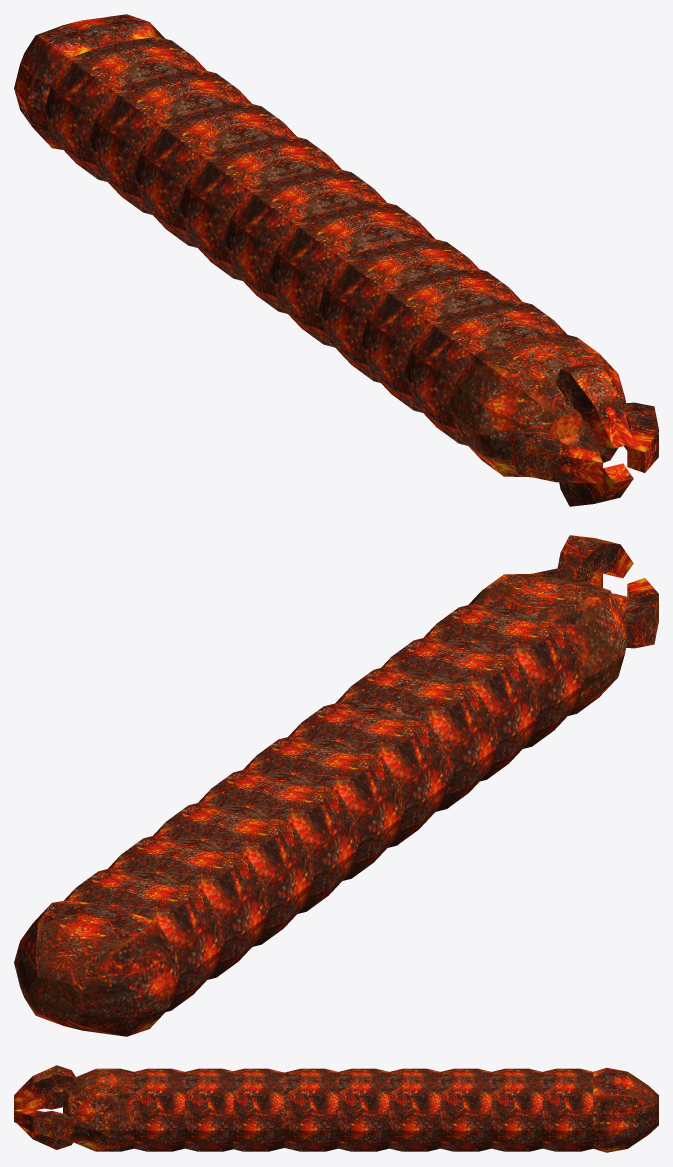
Rendered from gorger.obj.
3 renders of one model, top to bottom at view 1: azimuth 30°, elevation 25°; view 2: azimuth 150°, elevation 25°; view 3: azimuth 270°, elevation 25°, orthographic. The views are drawn at different scales.
Visible parts, largest first — view 1: Head, Body03, Body06, Body05, Body07, Body04, Body, Body08, Body01, Body02, Body09, MouthTop (+3 smaller); view 2: Body09, Body02, Body03, Body06, Body07, Body05, Body04, Body, Head, Body08, Body01, MouthTop (+1 smaller); view 3: Head, Body09, Body03, Body07, Body08, Body06, Body05, Body04, Body02, Body, Body01, MouthTop (+3 smaller).
Boxes of the visible parts, x1,y1,x2,y2 form: Head: (450,333,625,477); Body03: (270,201,434,347); Body06: (134,102,296,247); Body05: (179,135,341,280); Body07: (89,69,251,214); Body04: (224,168,386,313); Body: (405,300,567,445); Body08: (44,36,206,181); Body01: (361,268,522,412); Body02: (318,237,478,382); Body09: (14,14,165,149); MouthTop: (556,363,633,448); Body09: (14,900,180,1036); Body02: (335,666,499,811); Body03: (288,701,451,847); Body06: (153,801,315,946); Body07: (108,834,270,979); Body05: (198,768,360,913); Body04: (243,735,405,880); Body: (423,603,585,748); Head: (468,573,628,715); Body08: (64,867,225,1011); Body01: (381,636,540,781); MouthTop: (555,535,633,583); Head: (63,1068,133,1151); Body09: (593,1067,658,1152); Body03: (284,1068,338,1151); Body07: (491,1068,542,1151); Body08: (542,1068,593,1151); Body06: (440,1068,491,1151); Body05: (389,1068,440,1151); Body04: (338,1068,389,1151); Body02: (233,1068,284,1151); Body: (134,1068,184,1151); Body01: (185,1068,233,1151); MouthTop: (14,1065,78,1104).
Size of the model in its own units: 1.73 by 1.47 by 11.37.
